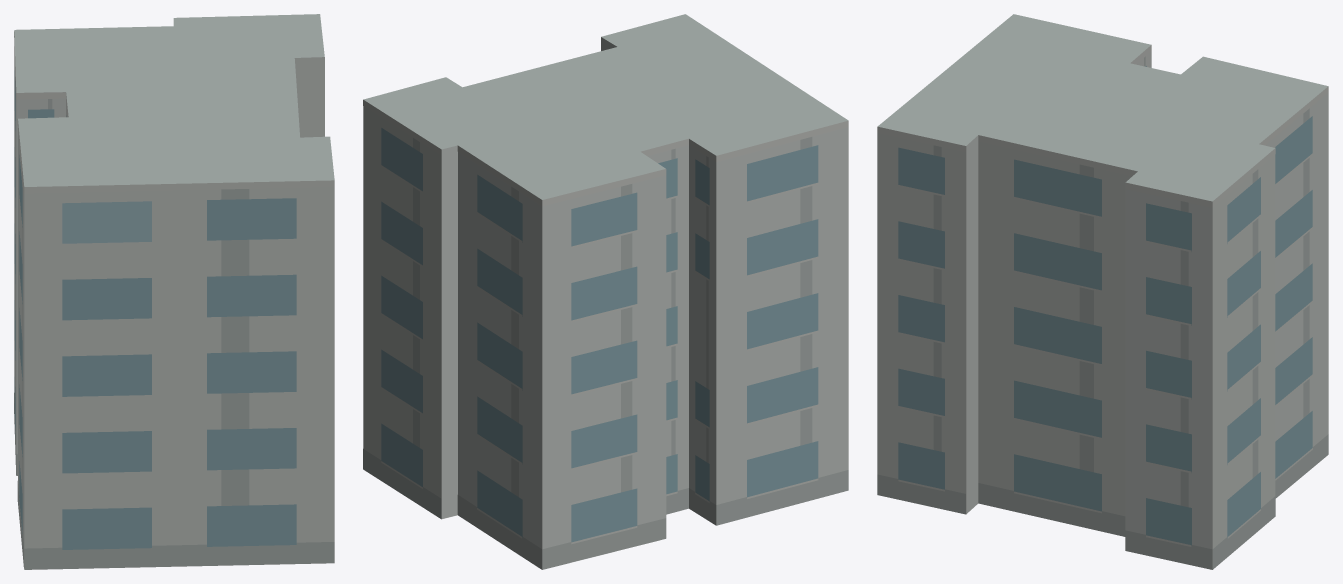
Rendered from survey-upis-32972732.glb.
3 renders of one model, left to right at view 1: azimuth 30°, elevation 25°; view 2: azimuth 150°, elevation 25°; view 3: azimuth 270°, elevation 25°, orthographic. The views are drawn at different scales.
Parts seen in each view (by area): view 1: survey-upis-32972732.tmp; view 2: survey-upis-32972732.tmp; view 3: survey-upis-32972732.tmp.
Part boxes in pixels (bbox=[...]): survey-upis-32972732.tmp: bbox=[14, 14, 334, 569]; survey-upis-32972732.tmp: bbox=[363, 14, 848, 569]; survey-upis-32972732.tmp: bbox=[877, 14, 1328, 569].
Size of the model in its own units: 15.4 by 14.1 by 15.66.
